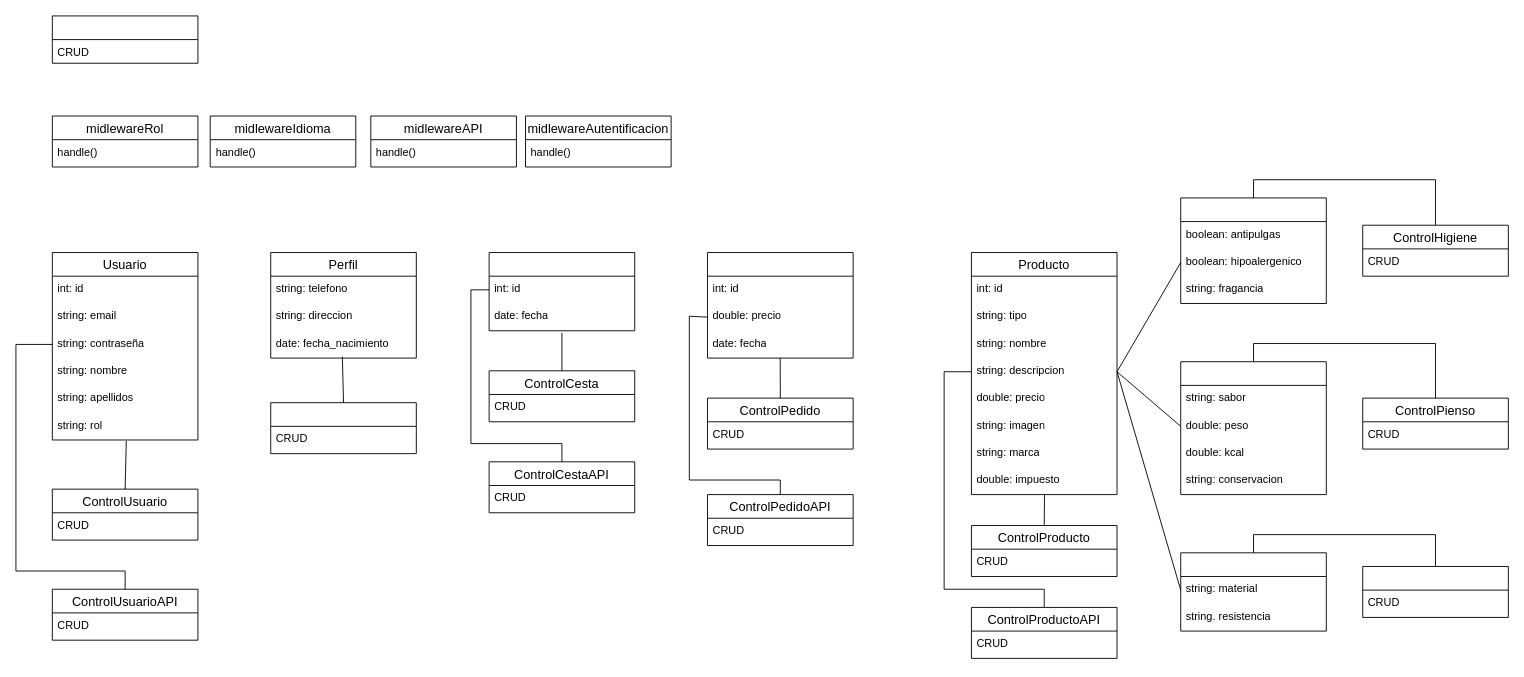
This 1524x677 diagram has some shape labels left out. The shapes that lost their labels are listed below. From the top down, each one's box as (x1, y1, x2, y2) in pixels, then its label:
(51, 15, 198, 63): ControlExternoAPI
(1180, 197, 1326, 303): Higiene
(488, 252, 635, 331): Cesta
(707, 252, 853, 358): Pedido
(270, 402, 416, 454): ControlPerfil
(1180, 361, 1326, 495): Pienso
(1180, 552, 1326, 631): Juguete
(1362, 566, 1508, 617): ControlJuguete
